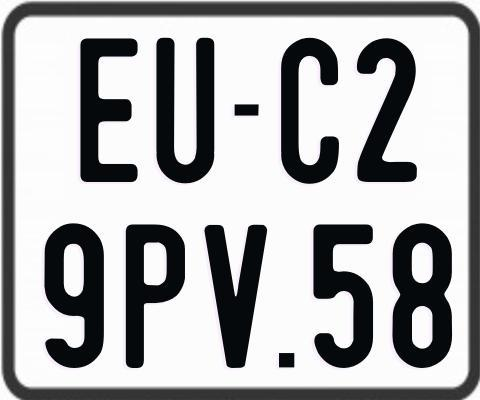2: (357, 37, 421, 186)
5: (310, 222, 371, 367)
8: (392, 220, 452, 369)
9: (41, 222, 103, 369)
C: (281, 38, 343, 188)
E: (77, 35, 135, 179)
P: (123, 222, 187, 367)
U: (154, 38, 212, 187)
V: (204, 222, 270, 368)
